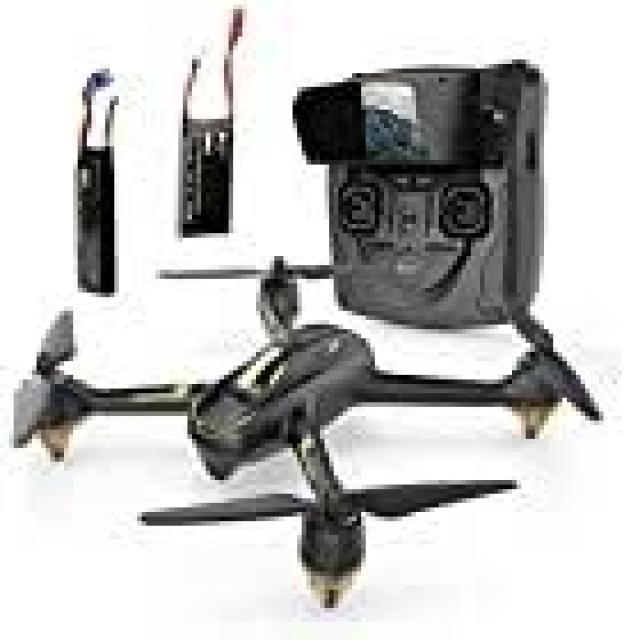drone: (13, 260, 622, 623)
